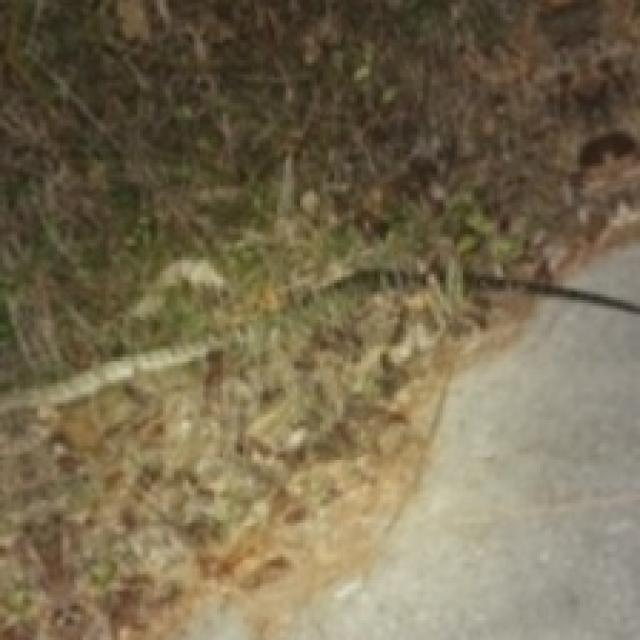king cobra: (0, 343, 226, 417), (226, 360, 277, 394)
